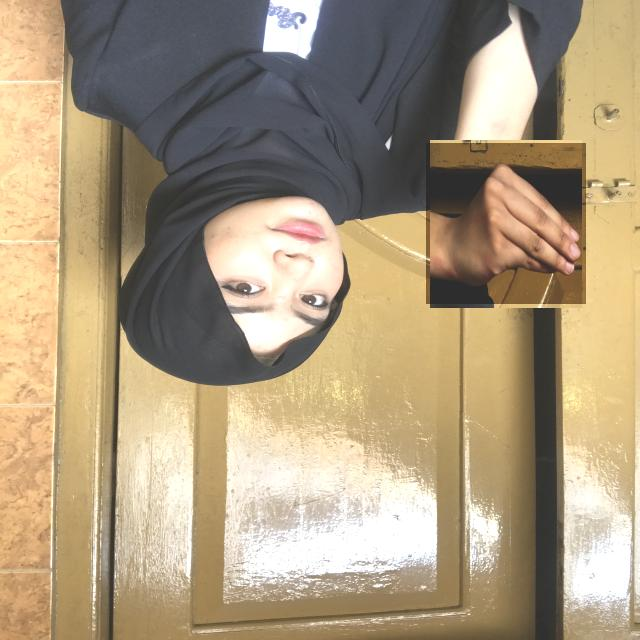kapan: (426, 143, 586, 304)
